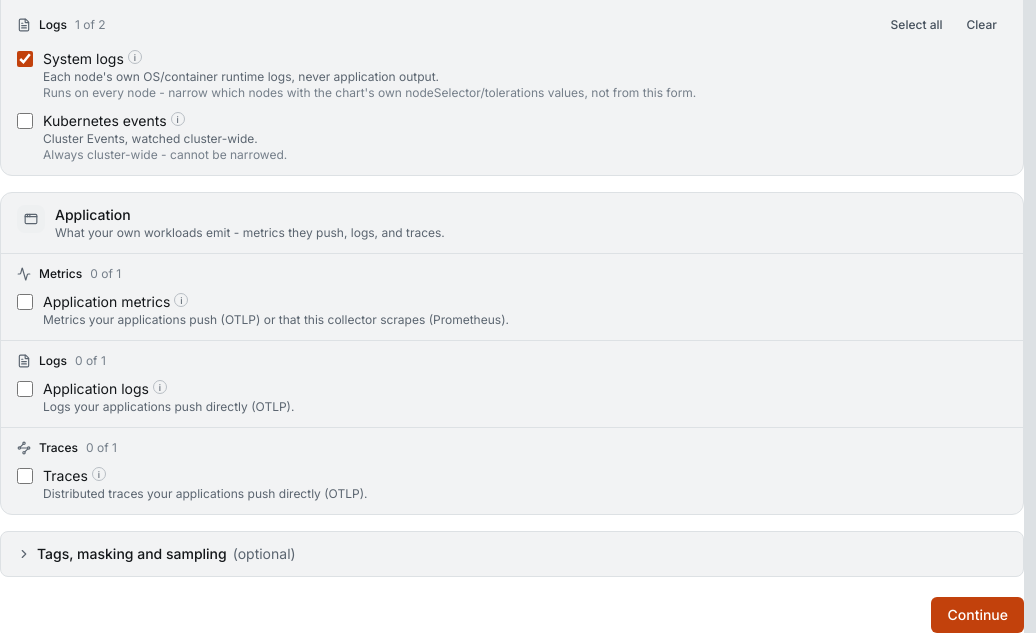
Scenario: GuidedWizard: one destination per signal type › an install that already sends signals to several places opens split, with each destination in place
(page scrolled)
Click the button with test id "t-guided-continue" at (978, 615), box x1=932 y1=597 x2=1024 y2=632
(page scrolled)
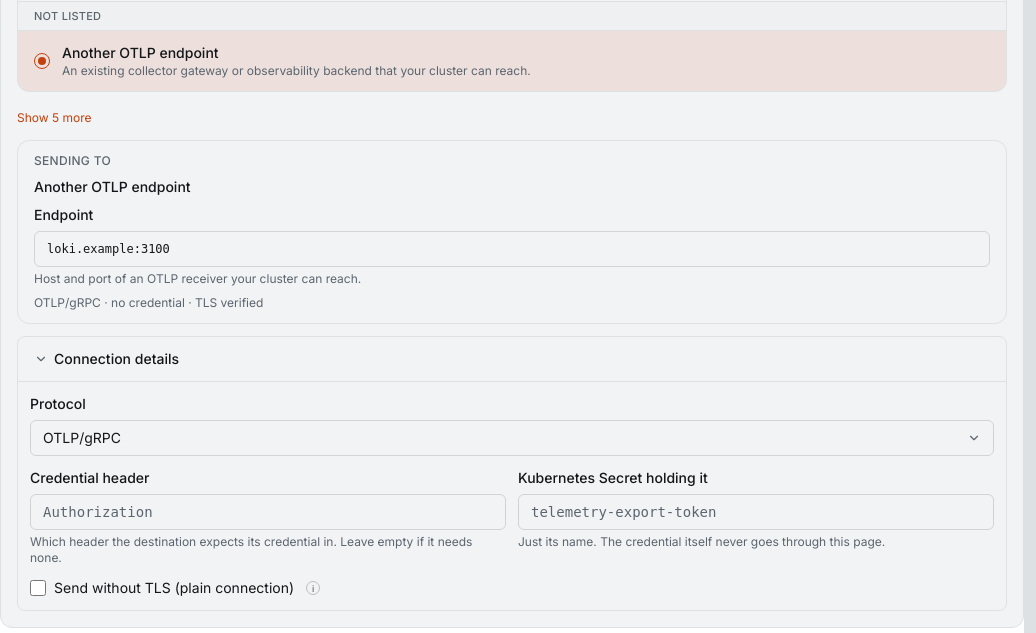
Expected: the field with test id "t-lane-logs-guided-destination-custom-endpoint" holds "loki.example:3100", x1=34 y1=231 x2=990 y2=267
